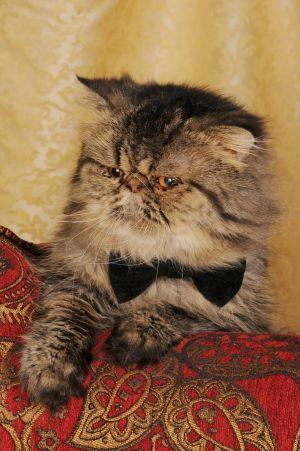persian: (69, 64, 274, 255)
